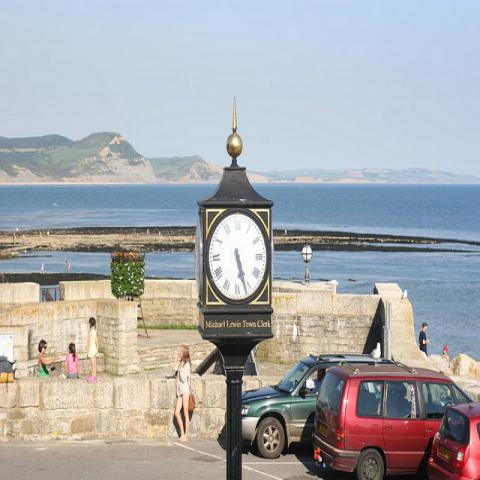car: (313, 358, 474, 474), (242, 354, 371, 460), (428, 401, 480, 479)
